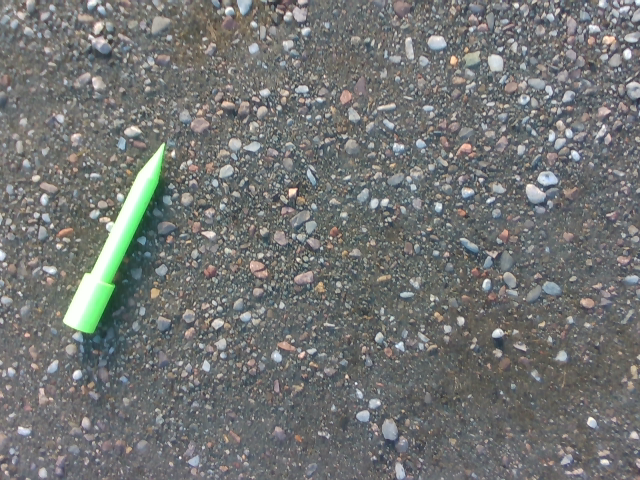Probe: (57, 139, 168, 334)
